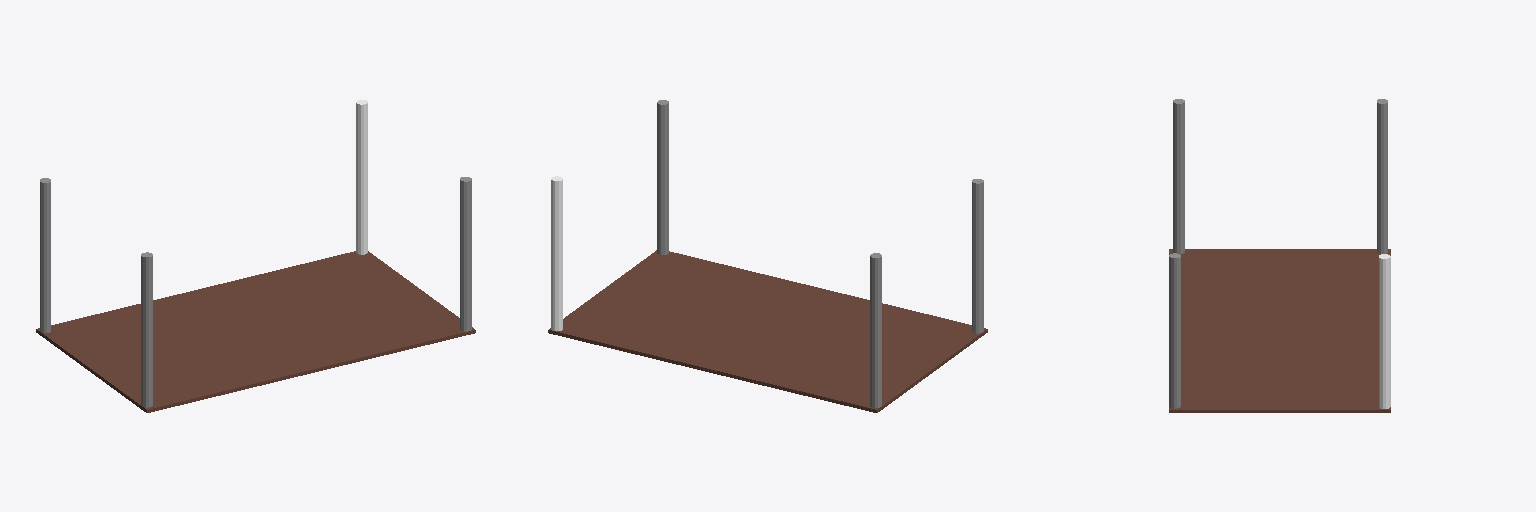
Rendered from model-triangulated.obj.
The picture shows the model from 3 angles: view 1: azimuth 30°, elevation 25°; view 2: azimuth 150°, elevation 25°; view 3: azimuth 270°, elevation 25°; orthographic projection.
Parts seen in each view (by area): view 1: group[number redacted], group[number redacted], group[number redacted], group[number redacted], group[number redacted]; view 2: group[number redacted], group[number redacted], group[number redacted], group[number redacted], group[number redacted]; view 3: group[number redacted], group[number redacted], group[number redacted], group[number redacted], group[number redacted].
Boxes of the visible parts, x1=… form: group[number redacted]: x1=36, y1=251, x2=475, y2=412; group[number redacted]: x1=141, y1=252, x2=152, y2=407; group[number redacted]: x1=356, y1=100, x2=367, y2=254; group[number redacted]: x1=460, y1=177, x2=471, y2=331; group[number redacted]: x1=40, y1=178, x2=50, y2=332; group[number redacted]: x1=548, y1=250, x2=987, y2=412; group[number redacted]: x1=657, y1=100, x2=668, y2=254; group[number redacted]: x1=870, y1=253, x2=881, y2=407; group[number redacted]: x1=551, y1=176, x2=562, y2=330; group[number redacted]: x1=972, y1=179, x2=983, y2=333; group[number redacted]: x1=1169, y1=249, x2=1390, y2=412; group[number redacted]: x1=1169, y1=253, x2=1180, y2=408; group[number redacted]: x1=1379, y1=254, x2=1390, y2=408; group[number redacted]: x1=1173, y1=99, x2=1184, y2=253; group[number redacted]: x1=1377, y1=99, x2=1387, y2=253.
Size of the model in its own units: 7.79 by 3.48 by 4.54.